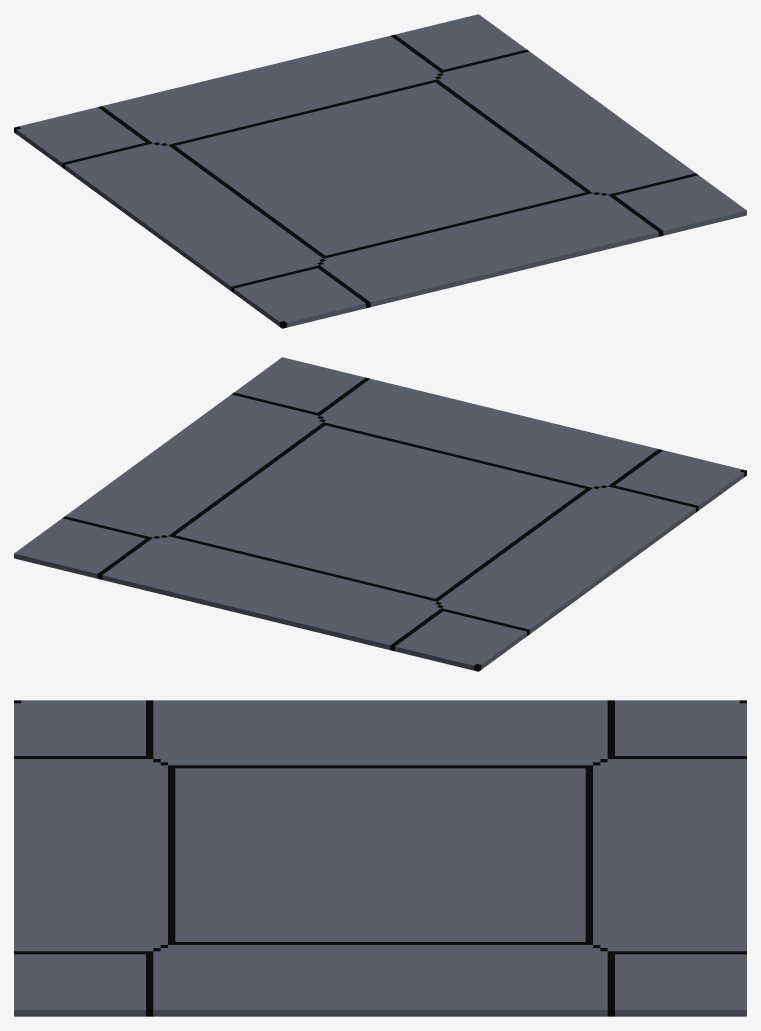
File: TestBlocks-0.obj
3 renders of one model, top to bottom at view 1: azimuth 30°, elevation 25°; view 2: azimuth 150°, elevation 25°; view 3: azimuth 270°, elevation 25°, orthographic. The views are drawn at different scales.
Bounding box in the file's own units: 10 × 0.1 × 10.
Materials: 1 (1 with a texture image).
